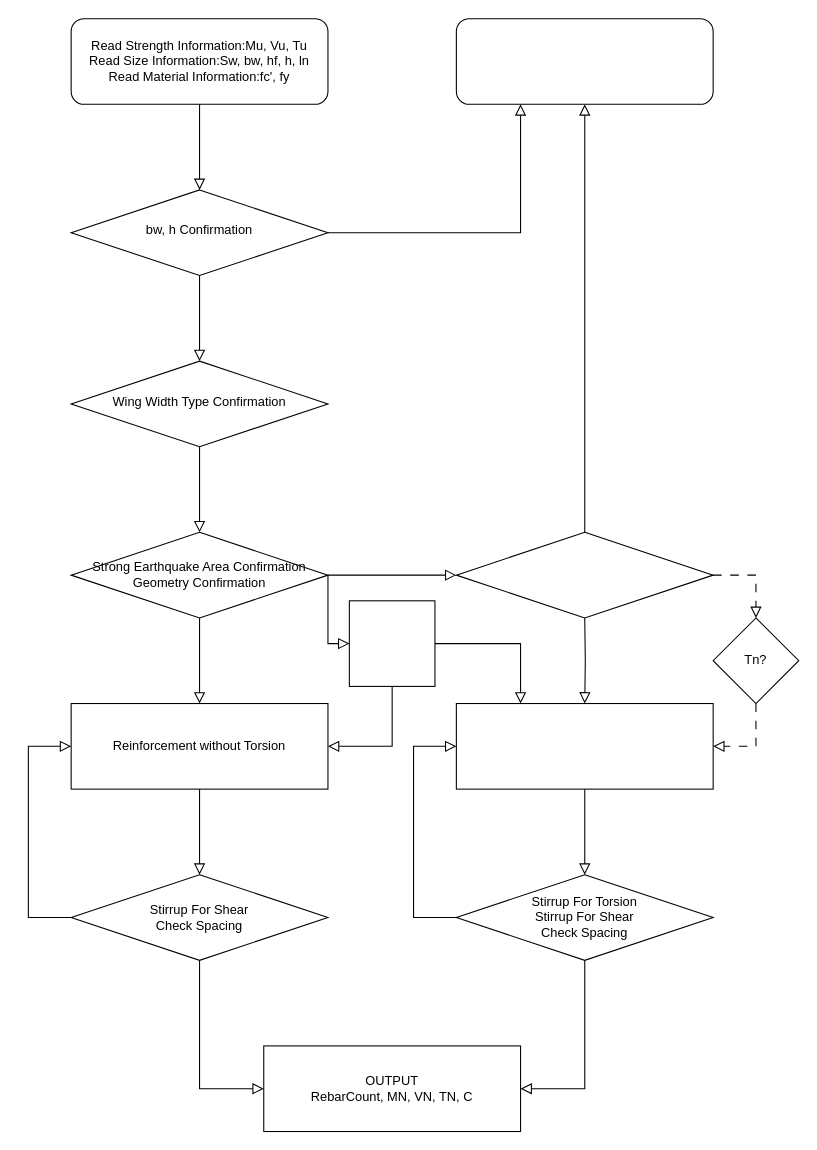
Image size: 817x1150. Some labels were removed from this diagram. Each missing label, with the centre of its shape:
"Flag Variable for Earthquake information" belongs at point (391, 643).
"Reinforcement Torsion in consideration" belongs at point (584, 745).
"Size Confirmation" belongs at point (584, 574).
"WARN!" belongs at point (584, 61).
